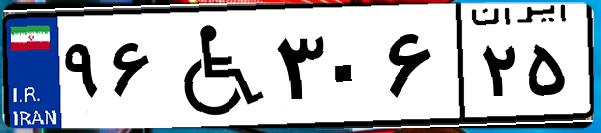0: (330, 28, 385, 110)
2: (475, 38, 525, 113)
3: (270, 28, 330, 110)
5: (525, 38, 570, 115)
6: (385, 28, 445, 110), (110, 28, 158, 98)
9: (57, 26, 110, 100)
ژ (معلولین و جانبازان): (158, 12, 270, 120)
